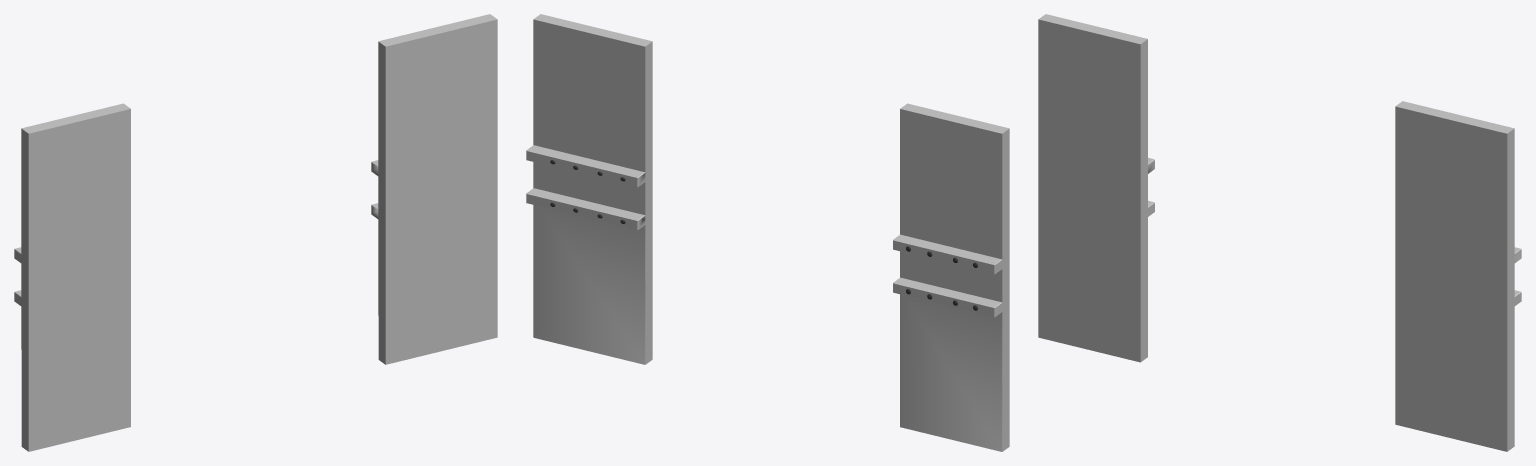
Rendered from SM_SJJ_HG_Wall05A.fbx.
The picture shows the model from 3 angles, left to right: view 1: azimuth 30°, elevation 25°; view 2: azimuth 150°, elevation 25°; view 3: azimuth 330°, elevation 25°; orthographic projection.
Parts seen in each view (by area): view 1: SM_SJJ_HG_Wall05A; view 2: SM_SJJ_HG_Wall05A; view 3: SM_SJJ_HG_Wall05A.
Boxes of the visible parts, box(x1,y1,x2,y2) form: SM_SJJ_HG_Wall05A: box(14, 14, 497, 451); SM_SJJ_HG_Wall05A: box(526, 14, 1009, 451); SM_SJJ_HG_Wall05A: box(1038, 14, 1521, 451).
Bounding box in the file's own units: 294 × 16.87 × 190.
